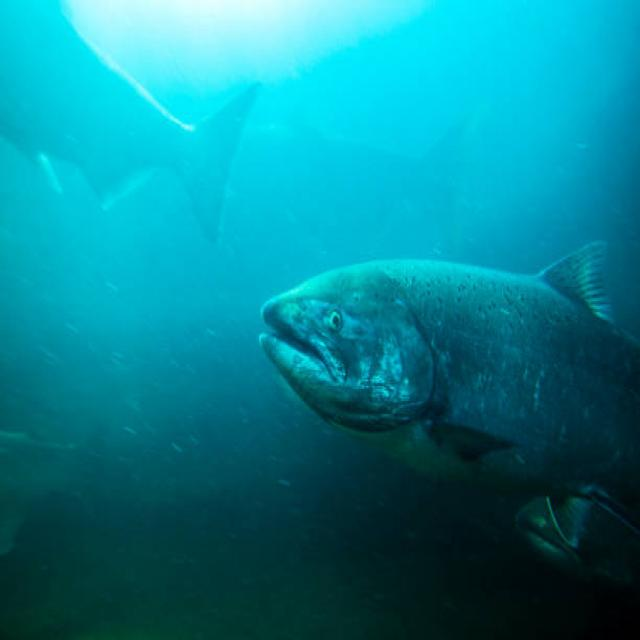salmon: (251, 255, 633, 553)
